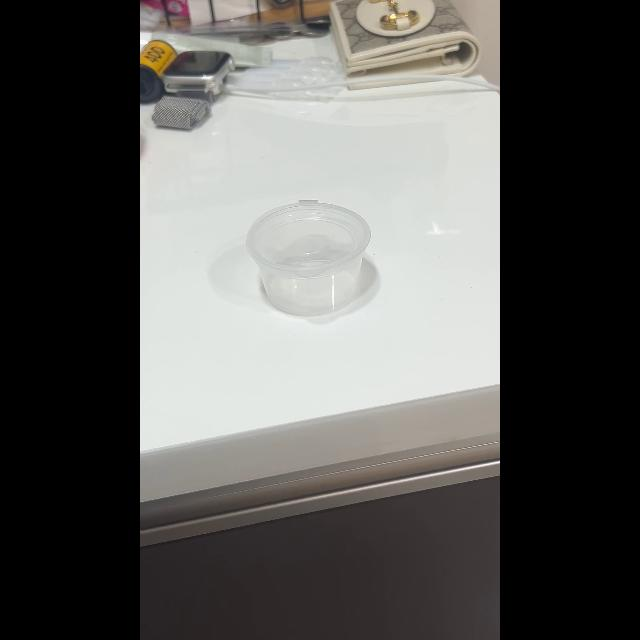clean: (242, 193, 378, 317)
